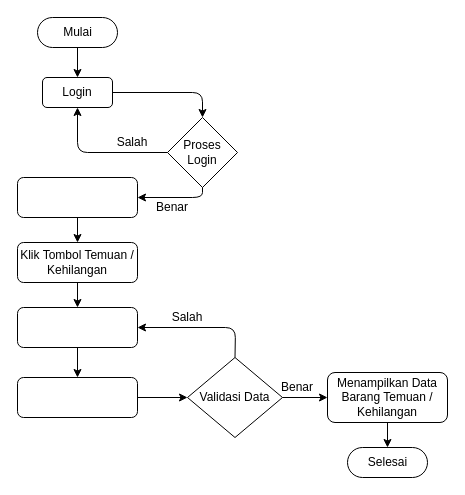
Image size: 465x495. Some labels were removed from this diagram. Here are the shapes that lost their labels. From the top down, the centre of each, then its label:
At point 77,197: "Masuk Ke Halaman Member".
At point 77,327: "Isikan Form Temuan / Kehilangan".
At point 77,397: "Klik Tombol Tambah Data".
